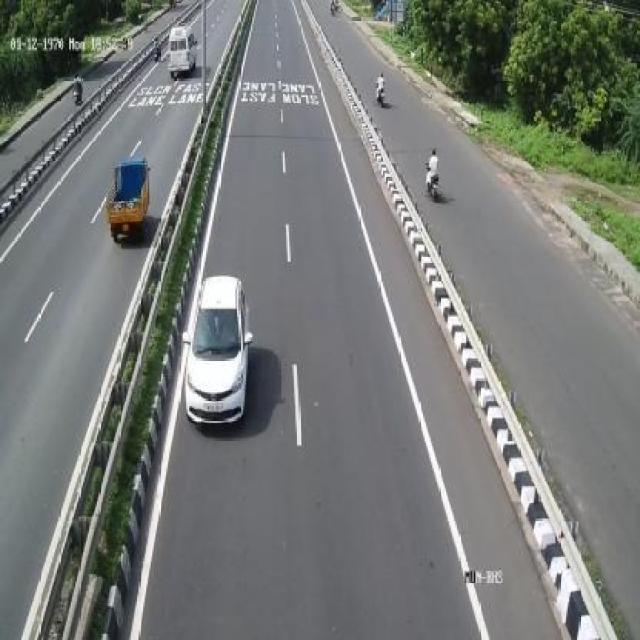car: (185, 264, 257, 430)
